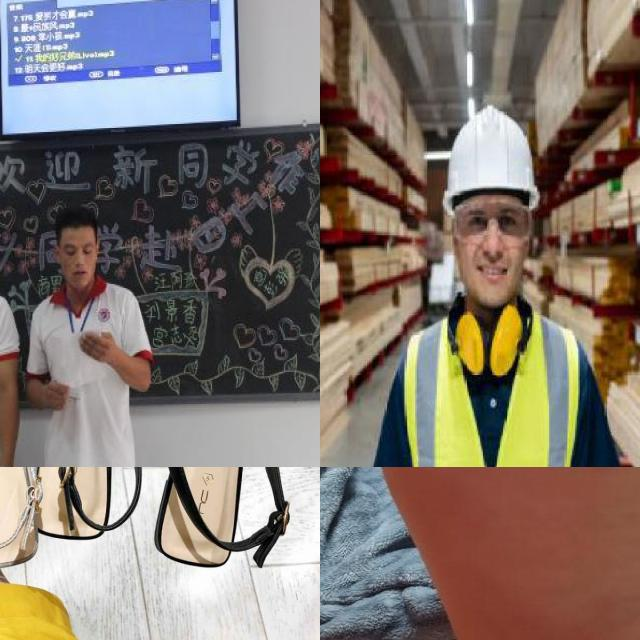Barefoots: (371, 467, 640, 640)
Ear-protection: (440, 293, 540, 381)
No_Ear-Protection: (52, 244, 66, 268)
No_Glasses: (62, 239, 94, 262)
Sandals: (33, 467, 307, 589)
glasses: (450, 200, 535, 249)
head_helmet: (432, 101, 554, 217)
person: (349, 75, 640, 467)
vest: (397, 312, 580, 467)
